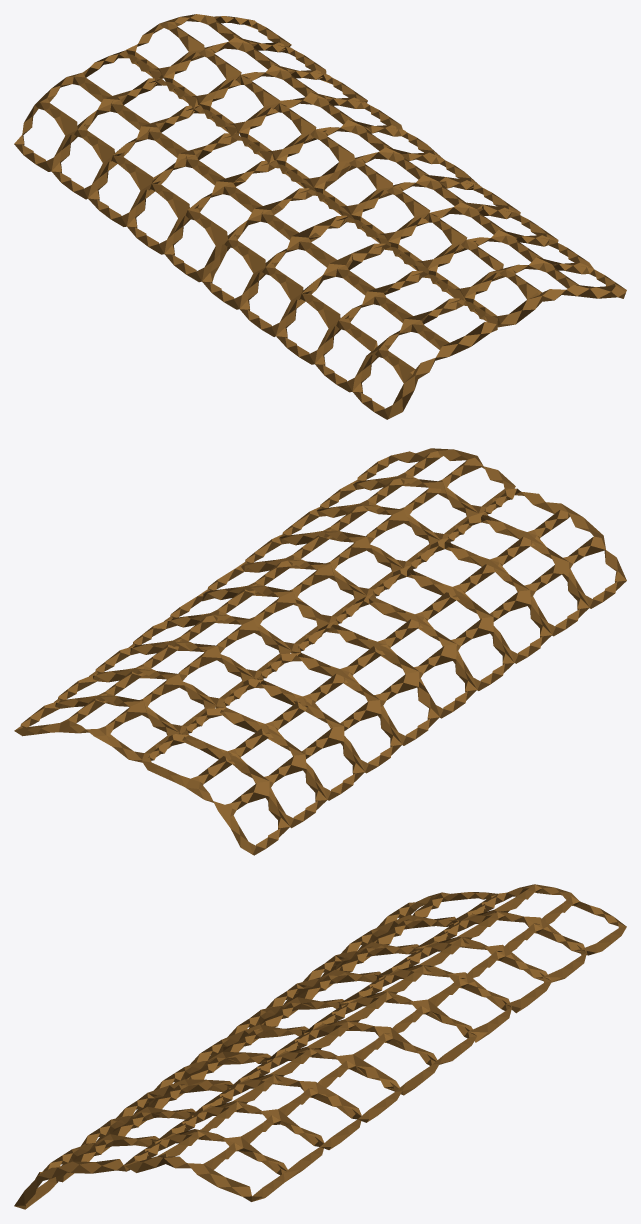
File: net.fbx
The picture shows the model from 3 angles, top to bottom: view 1: azimuth 30°, elevation 25°; view 2: azimuth 150°, elevation 25°; view 3: azimuth 330°, elevation 25°; orthographic projection.
Visible parts, largest first — view 1: Cube; view 2: Cube; view 3: Cube.
Part boxes in pixels (x1,y1,x2,y2): Cube: (14,14,626,419); Cube: (14,448,626,855); Cube: (14,884,626,1209).
Bounding box in the file's own units: 329 × 123 × 879.
